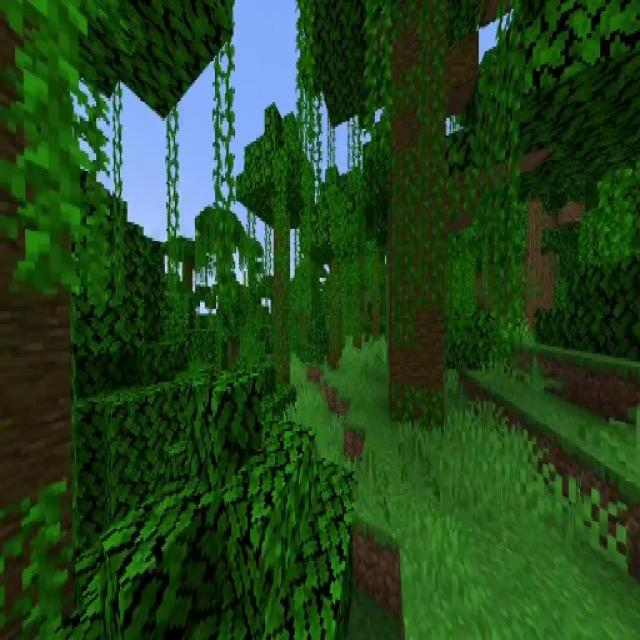jungle: (239, 105, 317, 392)
jungle_log: (0, 2, 78, 640), (390, 25, 444, 421), (274, 220, 290, 388)
oak_log: (528, 198, 552, 318)
